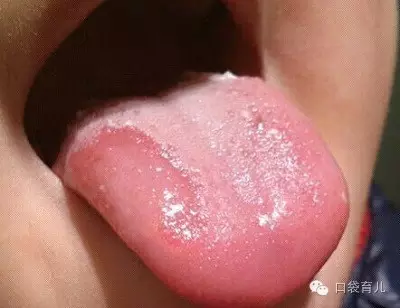baitaishe: (63, 74, 350, 308)
botaishe: (78, 119, 205, 212)
hongshe: (64, 74, 351, 308)
